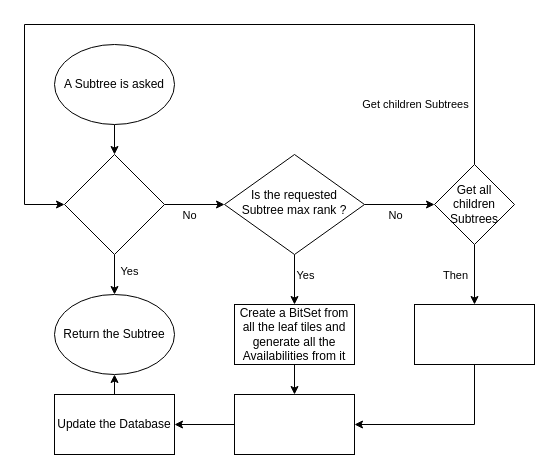
This 552x472 diagram has some shape labels left out. The box of each missing label's shape, as (x1, y1, x2, y2) in pixels:
Concatenate all the Subtrees: (414, 304, 534, 364)
Convert the Subtree into JSON binary: (234, 394, 354, 454)
Exists in the database ?: (64, 154, 164, 254)
